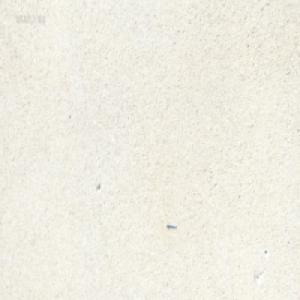Nail: (166, 221, 177, 229)
